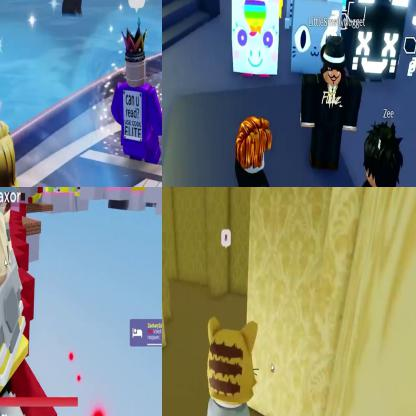Roblox-Avatar: (187, 317, 287, 416), (301, 37, 363, 172), (112, 18, 162, 166), (1, 199, 30, 416), (1, 118, 63, 187), (346, 120, 405, 187), (235, 116, 283, 187)
